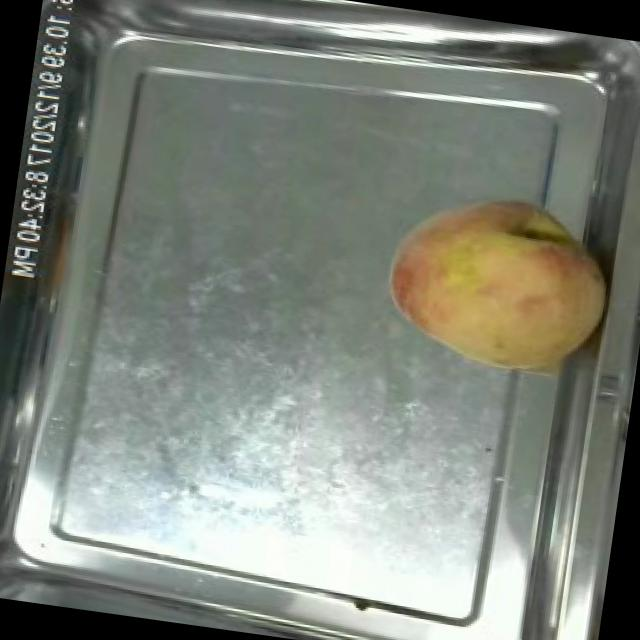Fruit: (366, 177, 624, 396)
